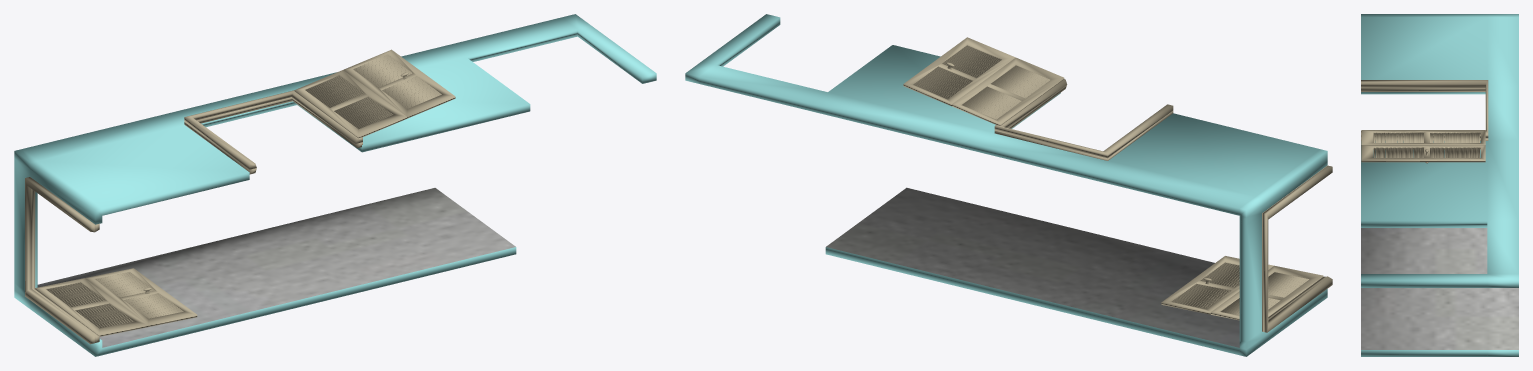
Rendered from wall_anteroom_v2.fbx.
3 views of the same model, side by side, from view 1: azimuth 30°, elevation 25°; view 2: azimuth 150°, elevation 25°; view 3: azimuth 270°, elevation 25° (orthographic). The views are drawn at different scales.
Parts seen in each view (by area): view 1: Cube.001, Door-right_WOOD_-_DR2, Door-right_WOOD_-, FRAME01_WOOD_-_DR, FRAME01_WOOD_-_DR2; view 2: Cube.001, Door-right_WOOD_-_DR2, Door-right_WOOD_-, FRAME01_WOOD_-_DR2, FRAME01_WOOD_-_DR; view 3: Cube.001, Door-right_WOOD_-_DR2, FRAME01_WOOD_-_DR2.
Part boxes in pixels (left/top/right/bottom): Cube.001: left=14, top=14, right=656, bottom=356; Door-right_WOOD_-_DR2: left=294, top=49, right=455, bottom=138; Door-right_WOOD_-: left=35, top=268, right=197, bottom=336; FRAME01_WOOD_-_DR: left=25, top=177, right=99, bottom=344; FRAME01_WOOD_-_DR2: left=184, top=90, right=362, bottom=174; Cube.001: left=685, top=14, right=1327, bottom=356; Door-right_WOOD_-_DR2: left=903, top=37, right=1064, bottom=125; Door-right_WOOD_-: left=1161, top=256, right=1323, bottom=320; FRAME01_WOOD_-_DR2: left=994, top=79, right=1173, bottom=160; FRAME01_WOOD_-_DR: left=1262, top=165, right=1332, bottom=332; Cube.001: left=1361, top=14, right=1518, bottom=356; Door-right_WOOD_-_DR2: left=1361, top=130, right=1485, bottom=163; FRAME01_WOOD_-_DR2: left=1361, top=80, right=1488, bottom=140.
Bounding box in the file's own units: 0.0404 × 0.0119 × 0.01.
Materials: 3 (1 with a texture image).
